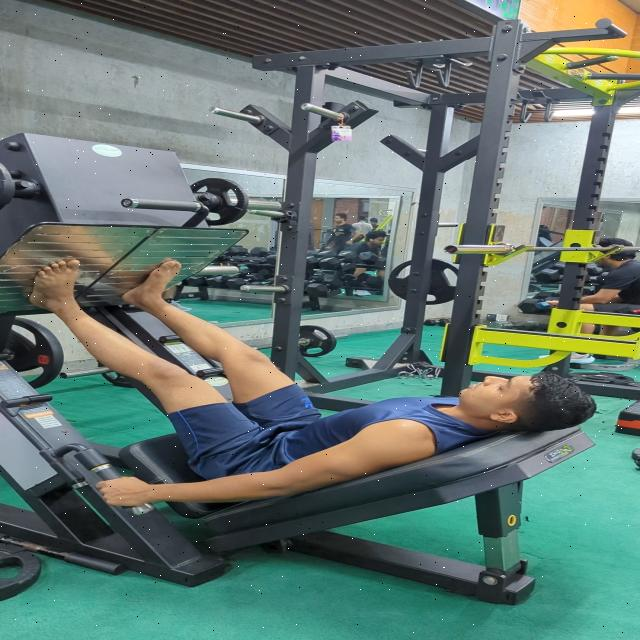Normal_LegPress: (0, 250, 631, 517)
